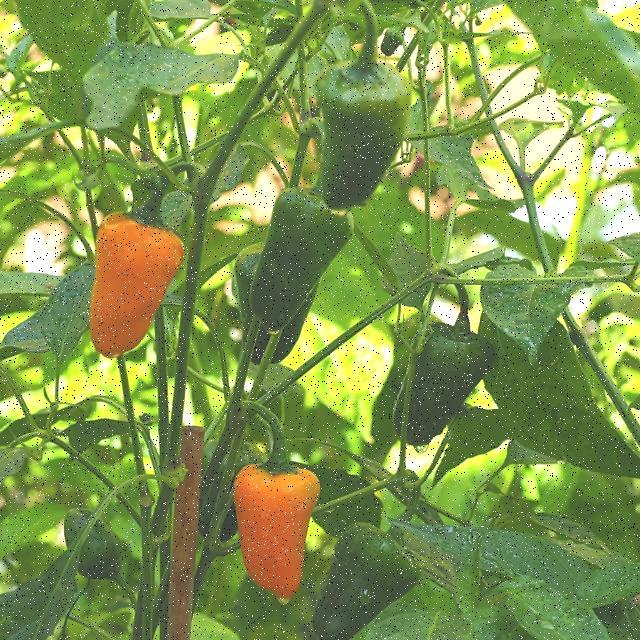Chili Pepper: (63, 162, 214, 375), (229, 168, 385, 352), (299, 52, 450, 224), (395, 312, 527, 481), (280, 510, 445, 640), (228, 438, 304, 604)
